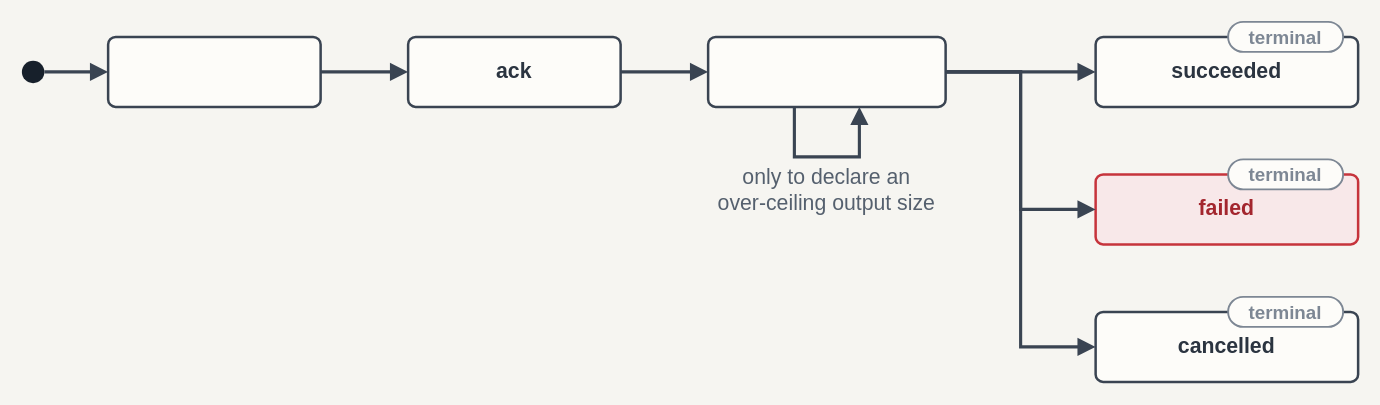
Image size: 1380x405. Some labels were removed from this diagram. The centre of each missing label's shape, as x and y in pixels:
"pending" goes at (213,71).
"started" goes at (826,71).
